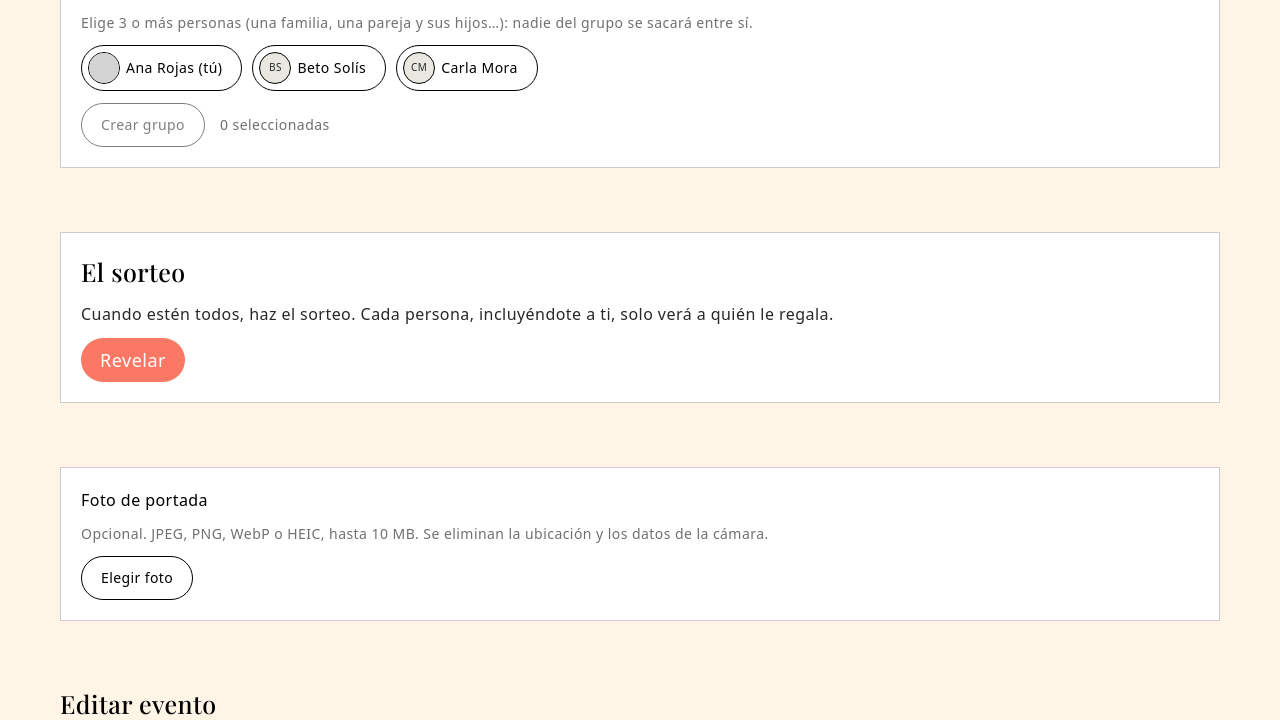
Test: Manage › Reveal › confirms in a modal listing everyone, draws once and goes to Overview
The width and height of the screenshot is (1280, 720).
(page scrolled)
Click the button "Revelar" at (133, 360), box [81,338,185,382]
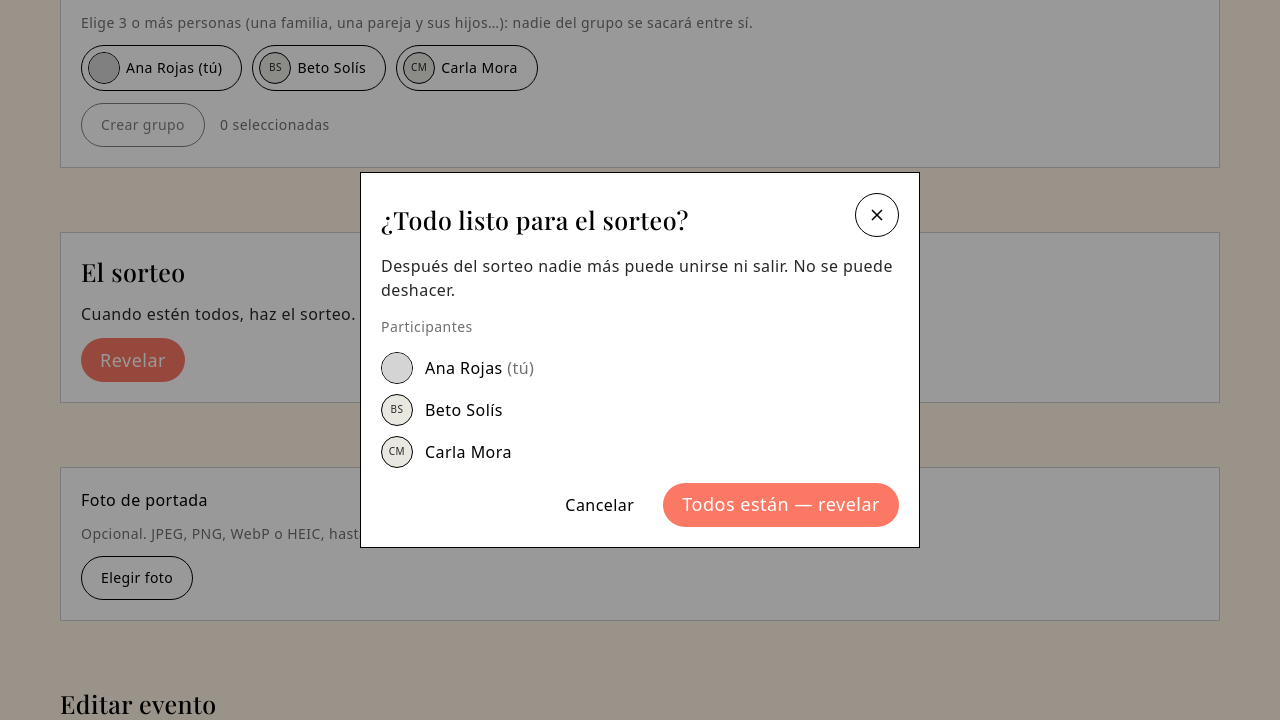
Now the dialog "¿Todo listo para el sorteo?" shows "Después del sorteo nadie más puede unirse ni salir. No se puede deshacer.", box [381,255,893,301]
Now the list item "Ana Rojas (tú)" is shown, box [381,352,534,384]
Now the list item "BS Beto Solís" is shown, box [381,394,503,426]
// Cancel does nothing.
Click the button "Cancelar" at (600, 505), box [546,483,653,527]
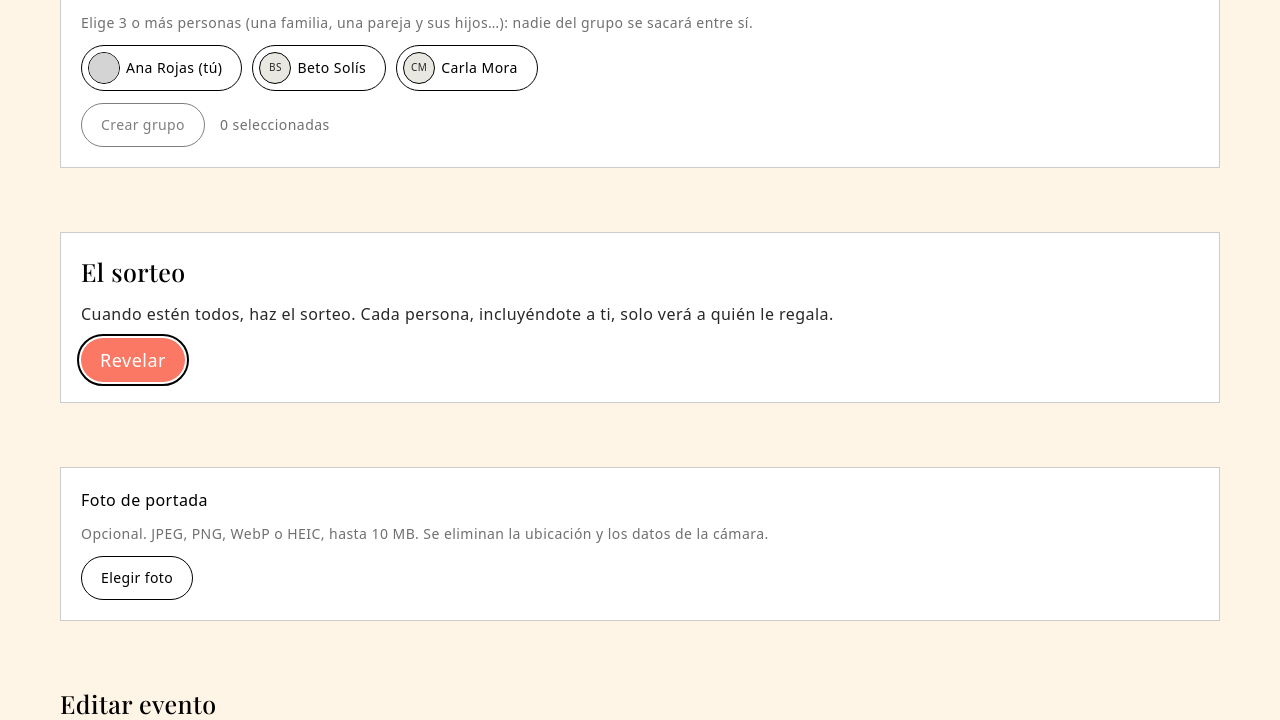
Click the button "Revelar" at (133, 360), box [81,338,185,382]
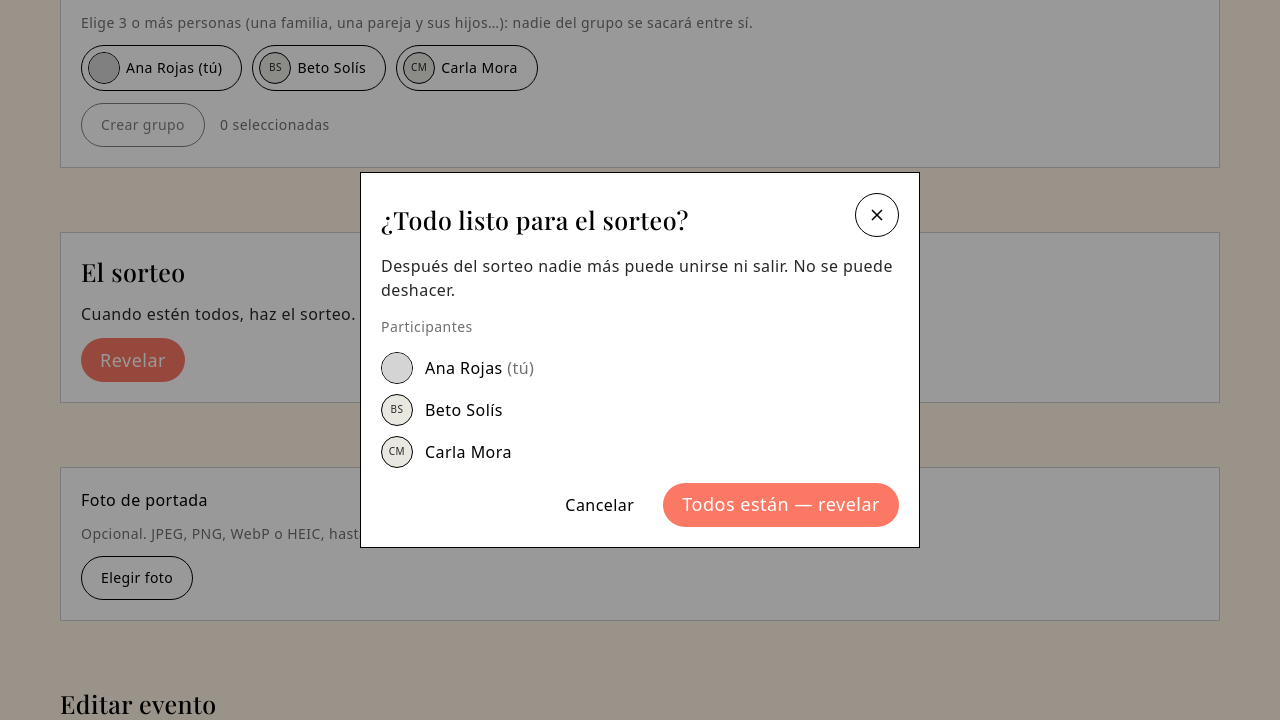
Double-click the button "Todos están — revelar" at (781, 505), box [663,483,899,527]
(page scrolled)
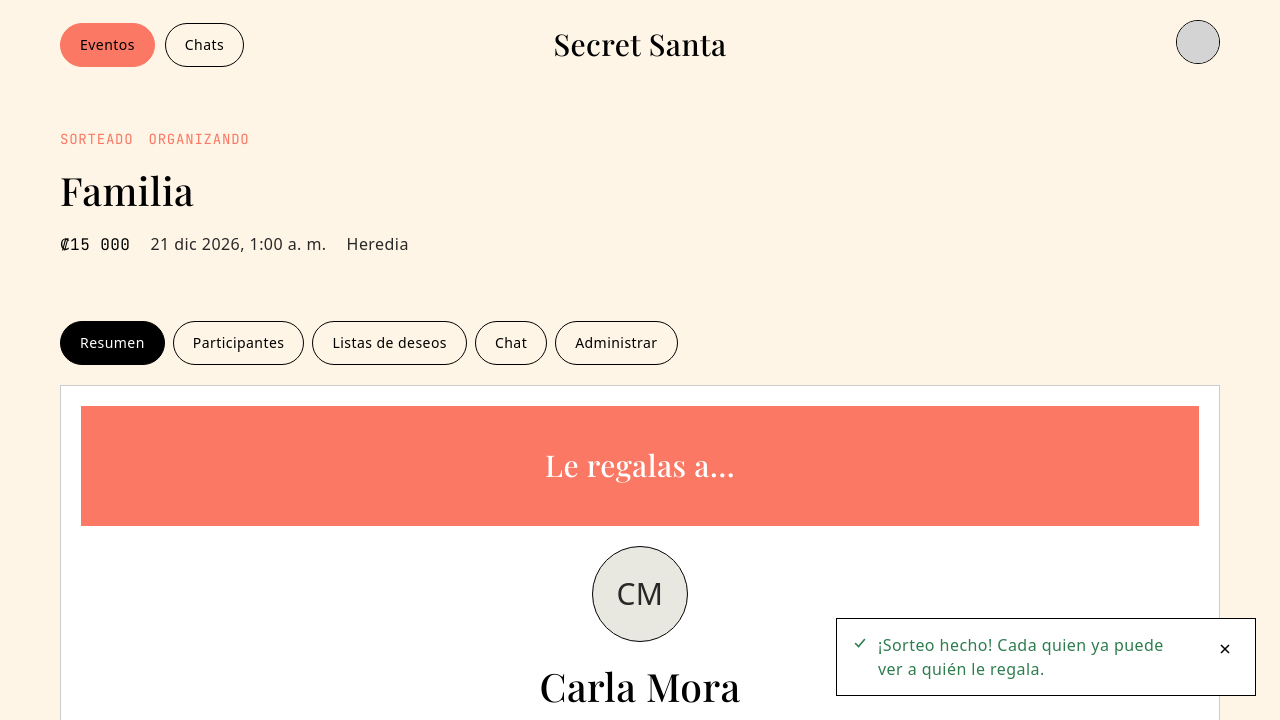
Now the text "¡Sorteo hecho! Cada quien ya puede ver a quién le regala." is shown, box [878,633,1193,681]
Now the text "Sorteado" is shown, box [60,129,134,149]
